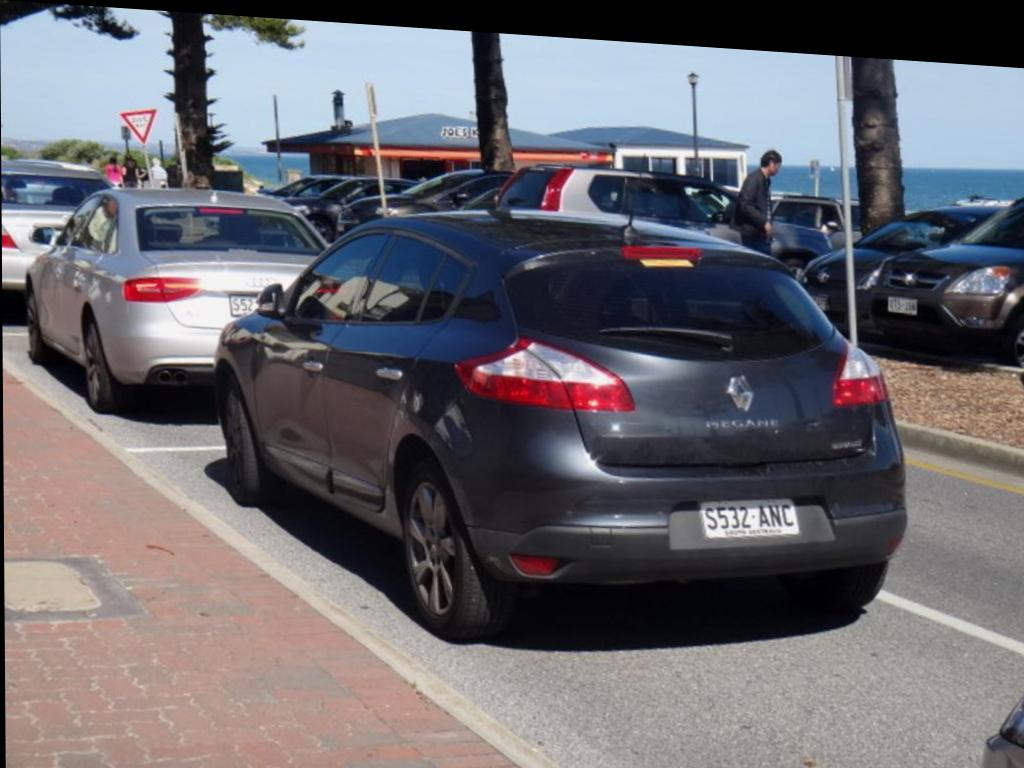License_Plate: (696, 496, 801, 545), (229, 290, 260, 318), (888, 296, 917, 312)
